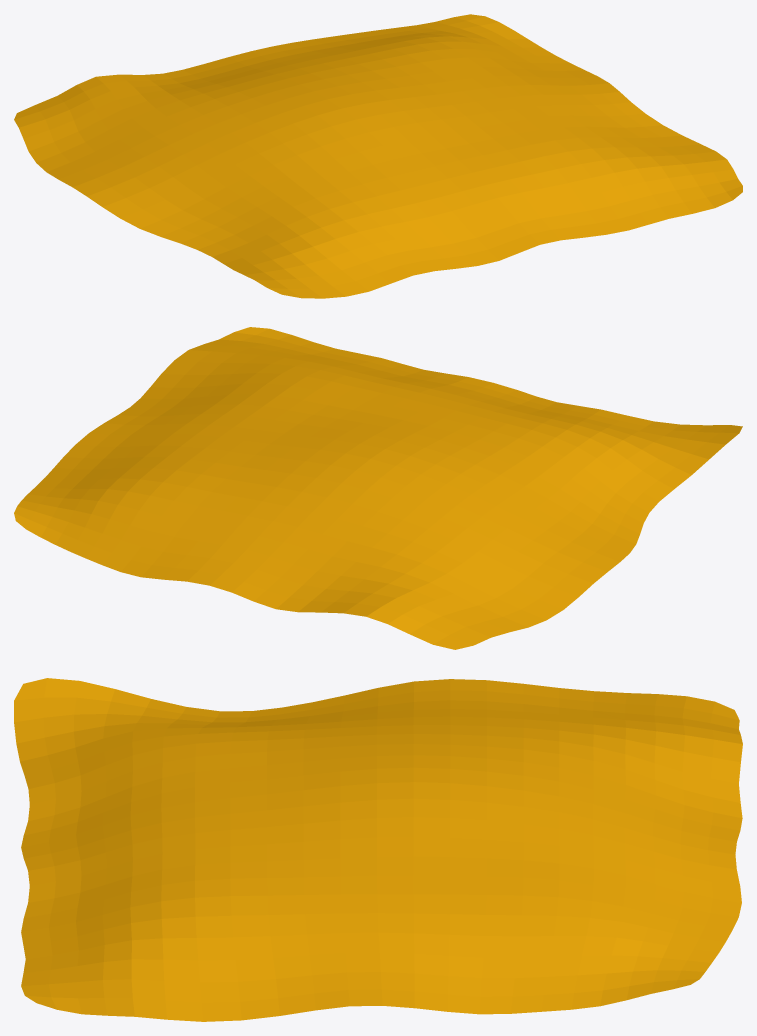
The model's file is cheese.gltf.
3 renders of one model, top to bottom at view 1: azimuth 30°, elevation 25°; view 2: azimuth 150°, elevation 25°; view 3: azimuth 270°, elevation 25°, orthographic. The views are drawn at different scales.
Visible parts, largest first — view 1: Plane; view 2: Plane; view 3: Plane.
Boxes of the visible parts, <box> form: Plane: <box>14,14,742,298</box>; Plane: <box>14,327,742,649</box>; Plane: <box>14,678,742,1021</box>.
Bounding box in the file's own units: 1.97 × 0.1679 × 1.81.
